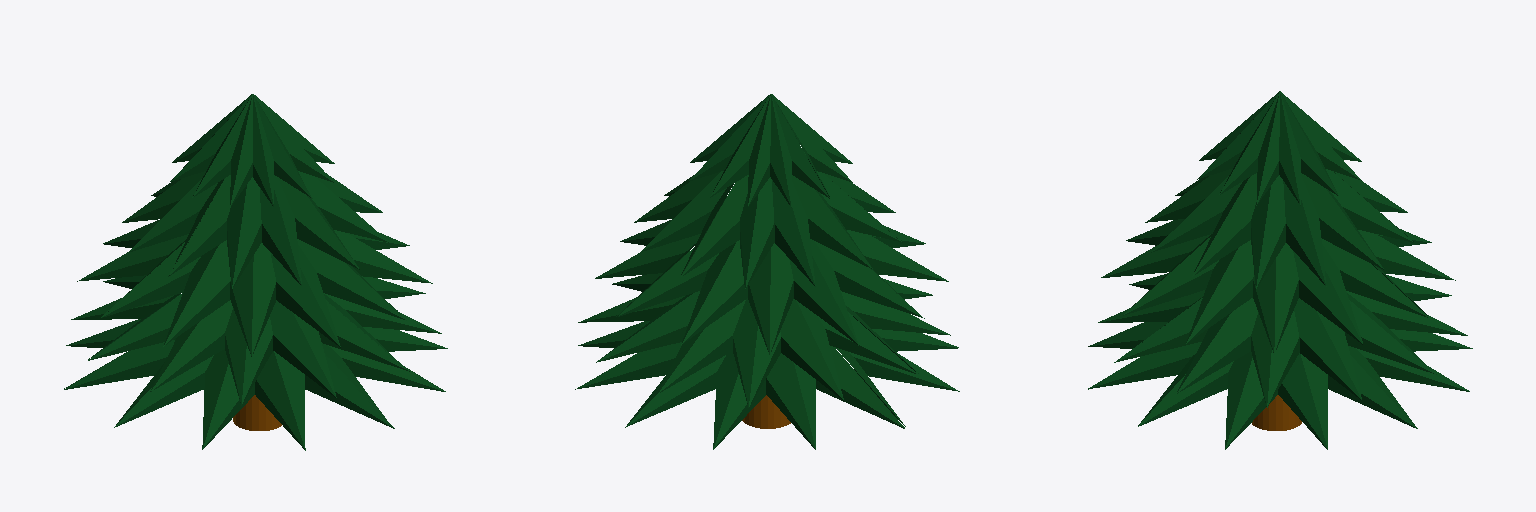
The model's file is tree.obj.
The picture shows the model from 3 angles: view 1: azimuth 30°, elevation 25°; view 2: azimuth 150°, elevation 25°; view 3: azimuth 270°, elevation 25°; orthographic projection.
Visible parts, largest first — view 1: Mesh4 Model, Mesh7 Model, Mesh6 Model, Mesh2 Model, Mesh10 Model, Mesh8 Model, Mesh3 Model, Mesh1 Model, Mesh9 Model, Mesh5 Model, Mesh11 Model; view 2: Mesh3 Model, Mesh5 Model, Mesh8 Model, Mesh1 Model, Mesh9 Model, Mesh4 Model, Mesh7 Model, Mesh2 Model, Mesh6 Model, Mesh10 Model, Mesh11 Model; view 3: Mesh4 Model, Mesh7 Model, Mesh3 Model, Mesh8 Model, Mesh9 Model, Mesh5 Model, Mesh6 Model, Mesh11 Model, Mesh2 Model, Mesh1 Model, Mesh10 Model.
Part boxes in pixels (bbox=[...]): Mesh4 Model: bbox=[101, 230, 432, 356]; Mesh7 Model: bbox=[168, 171, 389, 288]; Mesh6 Model: bbox=[88, 293, 409, 405]; Mesh2 Model: bbox=[64, 340, 394, 450]; Mesh10 Model: bbox=[171, 94, 312, 206]; Mesh8 Model: bbox=[64, 295, 447, 427]; Mesh3 Model: bbox=[71, 275, 441, 369]; Mesh1 Model: bbox=[122, 171, 223, 275]; Mesh9 Model: bbox=[170, 94, 334, 190]; Mesh5 Model: bbox=[77, 219, 188, 311]; Mesh11 Model: bbox=[233, 395, 281, 430]; Mesh3 Model: bbox=[578, 273, 916, 407]; Mesh5 Model: bbox=[618, 239, 924, 354]; Mesh8 Model: bbox=[575, 321, 904, 449]; Mesh1 Model: bbox=[681, 171, 902, 289]; Mesh9 Model: bbox=[689, 94, 829, 207]; Mesh4 Model: bbox=[595, 197, 948, 316]; Mesh7 Model: bbox=[634, 152, 897, 274]; Mesh2 Model: bbox=[835, 315, 959, 426]; Mesh6 Model: bbox=[841, 278, 950, 373]; Mesh10 Model: bbox=[772, 94, 852, 196]; Mesh11 Model: bbox=[742, 395, 790, 428]; Mesh4 Model: bbox=[1101, 219, 1428, 354]; Mesh7 Model: bbox=[1145, 169, 1413, 288]; Mesh3 Model: bbox=[1114, 275, 1467, 407]; Mesh8 Model: bbox=[1088, 329, 1472, 449]; Mesh9 Model: bbox=[1197, 91, 1361, 205]; Mesh5 Model: bbox=[1358, 229, 1455, 315]; Mesh6 Model: bbox=[1098, 273, 1204, 362]; Mesh11 Model: bbox=[1252, 395, 1301, 430]; Mesh2 Model: bbox=[1088, 322, 1167, 389]; Mesh1 Model: bbox=[1333, 171, 1413, 241]; Mesh10 Model: bbox=[1199, 91, 1279, 177].
Bounding box in the file's own units: 2.93 × 2.73 × 2.93.